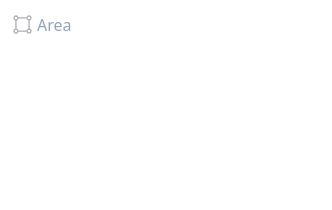
Scenario: AreaRangeDropdown › sets area range and clears it
Click the text "Area" at (54, 24), box [37, 12, 72, 36]
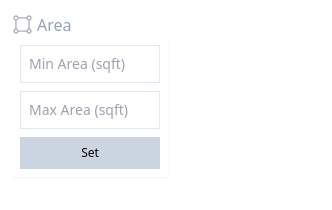
Type "500" into the number field with placeholder "Min Area (sqft)" at (90, 64), box [29, 54, 151, 74]
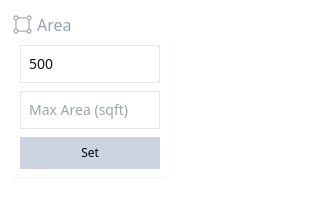
Type "1000" into the number field with placeholder "Max Area (sqft)" at (90, 110), box [29, 100, 151, 120]
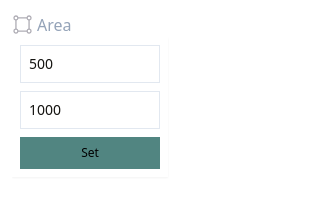
Click the button "Set" at (90, 153), box [20, 137, 160, 169]
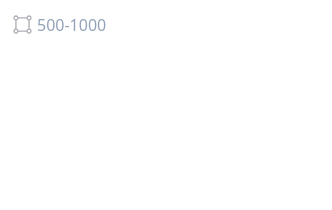
Now the text "500-1000" is shown
Click the text "500-1000" at (72, 24), box [37, 12, 106, 36]
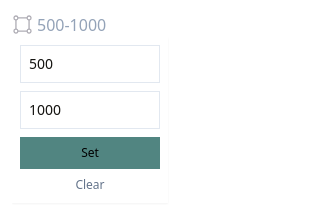
Click the button "Clear" at (90, 185), box [20, 177, 160, 193]
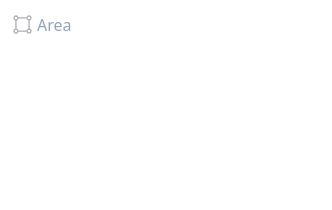
Now the text "Area" is shown, box [37, 12, 72, 36]
